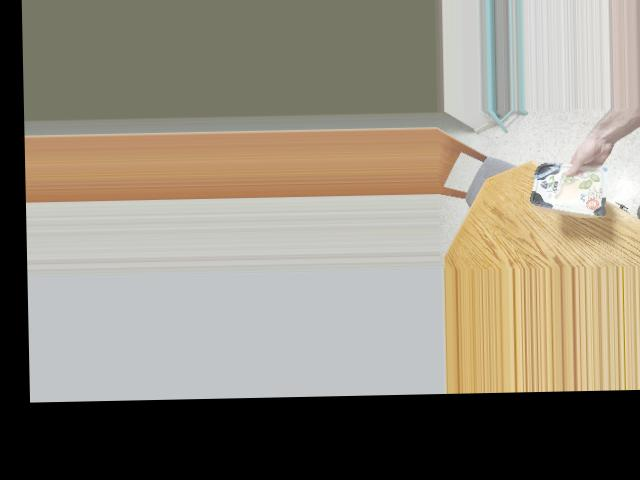cheese: (534, 151, 597, 215)
